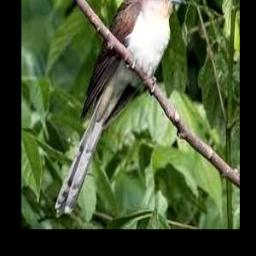Cuckoo: (55, 0, 185, 219)
